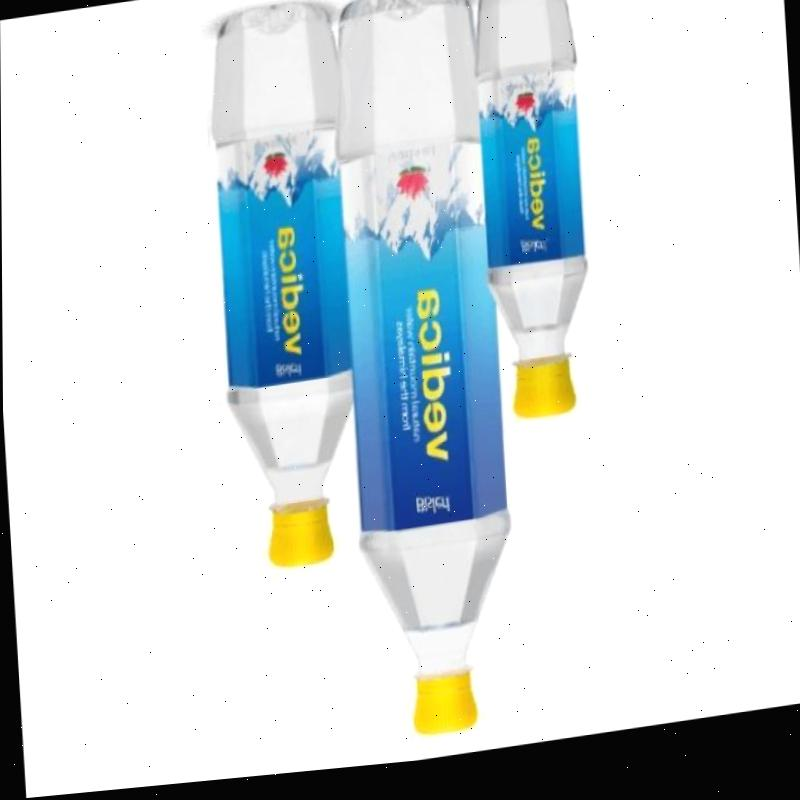botella: (327, 0, 520, 760), (204, 5, 366, 584), (470, 0, 595, 440)
